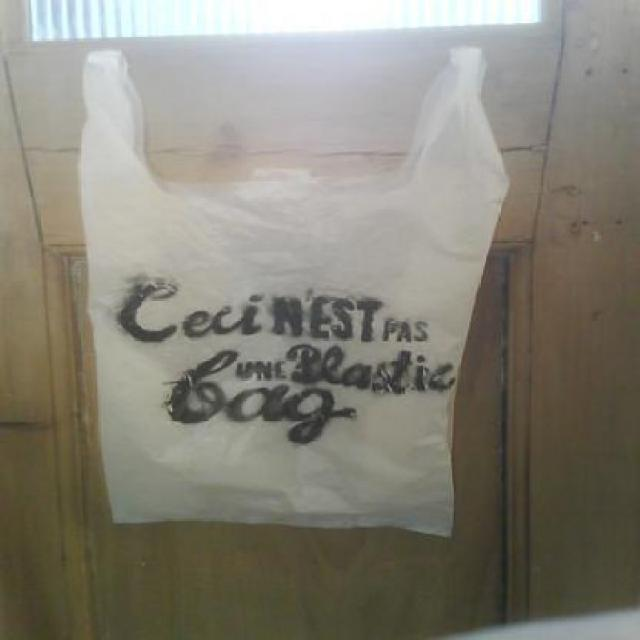plastic bag: (69, 44, 514, 538)
